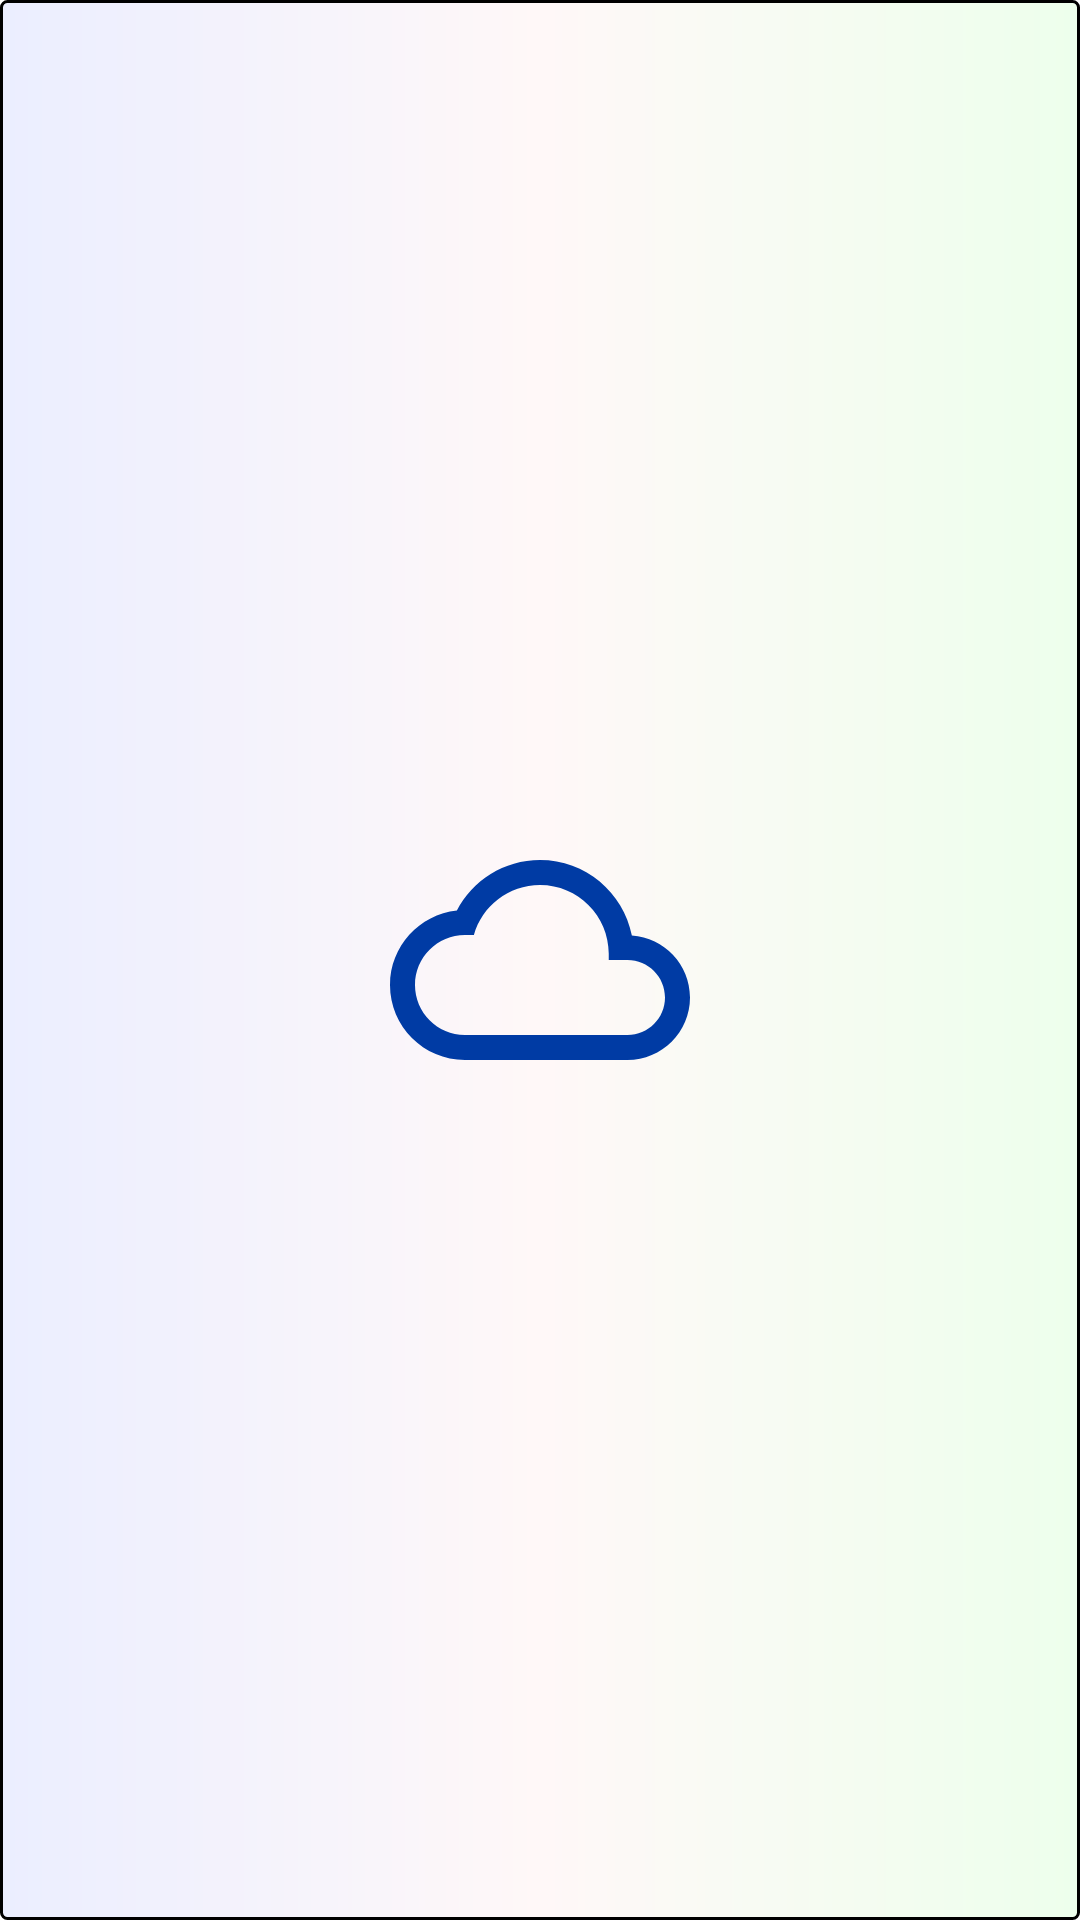

Icons on this 1080 × 1920 Android screen, each with the point to tap as point (x, y):
oblak: point (540, 960)
